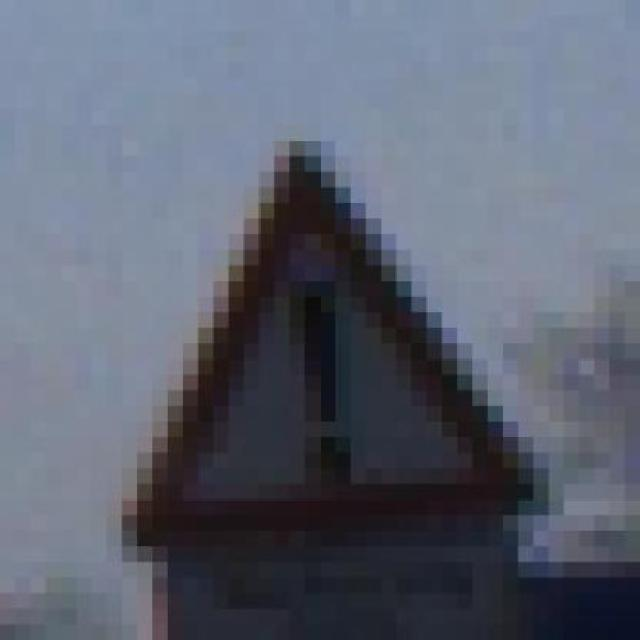Attention Please-: (61, 124, 579, 562)
